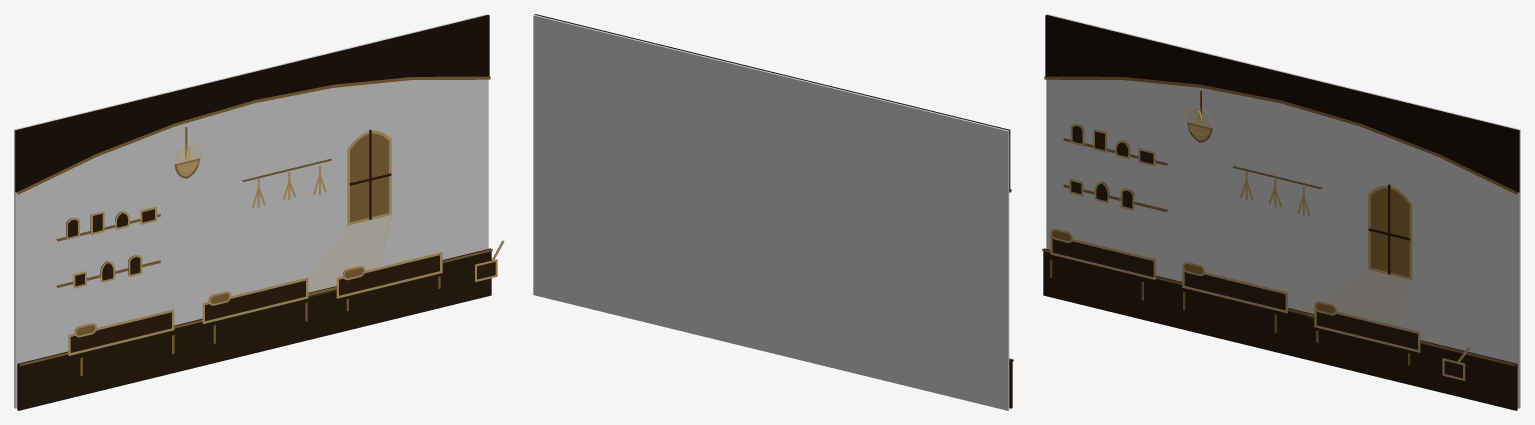
File: loc-lechebnitsa.glb
The picture shows the model from 3 angles, left to right: view 1: azimuth 30°, elevation 25°; view 2: azimuth 150°, elevation 25°; view 3: azimuth 330°, elevation 25°; orthographic projection.
Visible parts, largest first — view 1: loc-lechebnitsa; view 2: loc-lechebnitsa; view 3: loc-lechebnitsa.
Boxes of the visible parts, x1,y1,x2,y2 form: loc-lechebnitsa: (14,14,504,410); loc-lechebnitsa: (533,14,1013,410); loc-lechebnitsa: (1042,14,1520,410).
Bounding box in the file's own units: 5.34 × 3 × 0.661.
